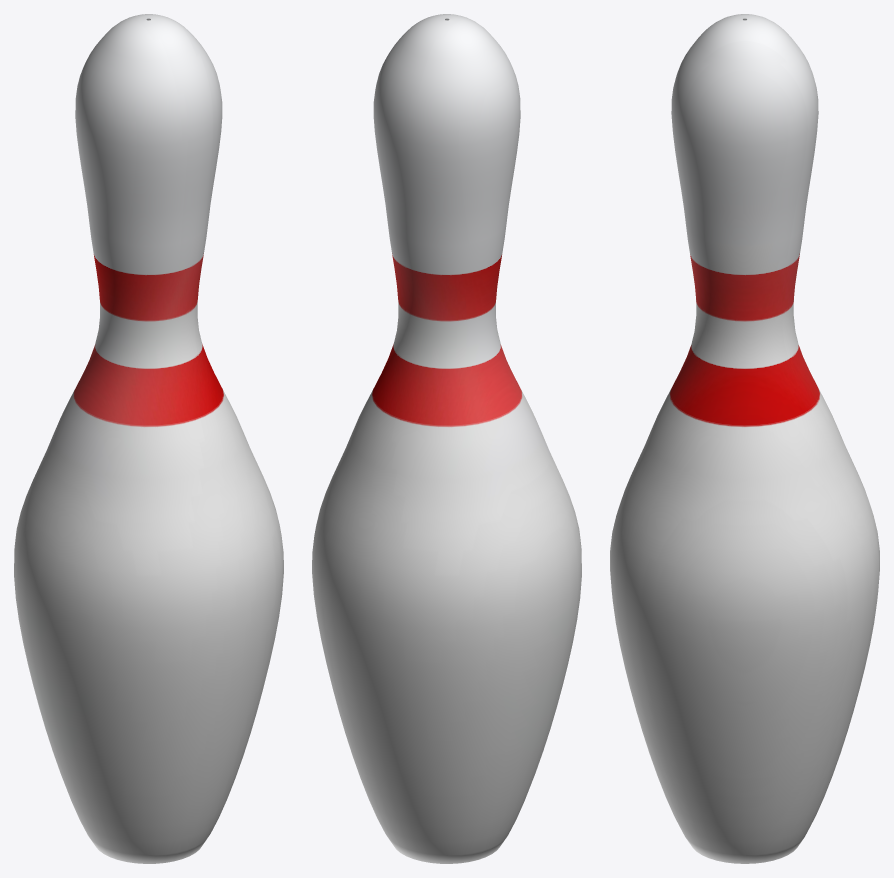
The model's file is Pin.fbx.
The picture shows the model from 3 angles, left to right: view 1: azimuth 30°, elevation 25°; view 2: azimuth 150°, elevation 25°; view 3: azimuth 270°, elevation 25°; orthographic projection.
Parts seen in each view (by area): view 1: Pin; view 2: Pin; view 3: Pin.
Boxes of the visible parts, bbox=[...] form: Pin: bbox=[14, 14, 283, 863]; Pin: bbox=[312, 14, 581, 863]; Pin: bbox=[610, 14, 879, 863].
Size of the model in its own units: 34.64 by 116 by 34.68.
Materials: 1 (1 with a texture image).
